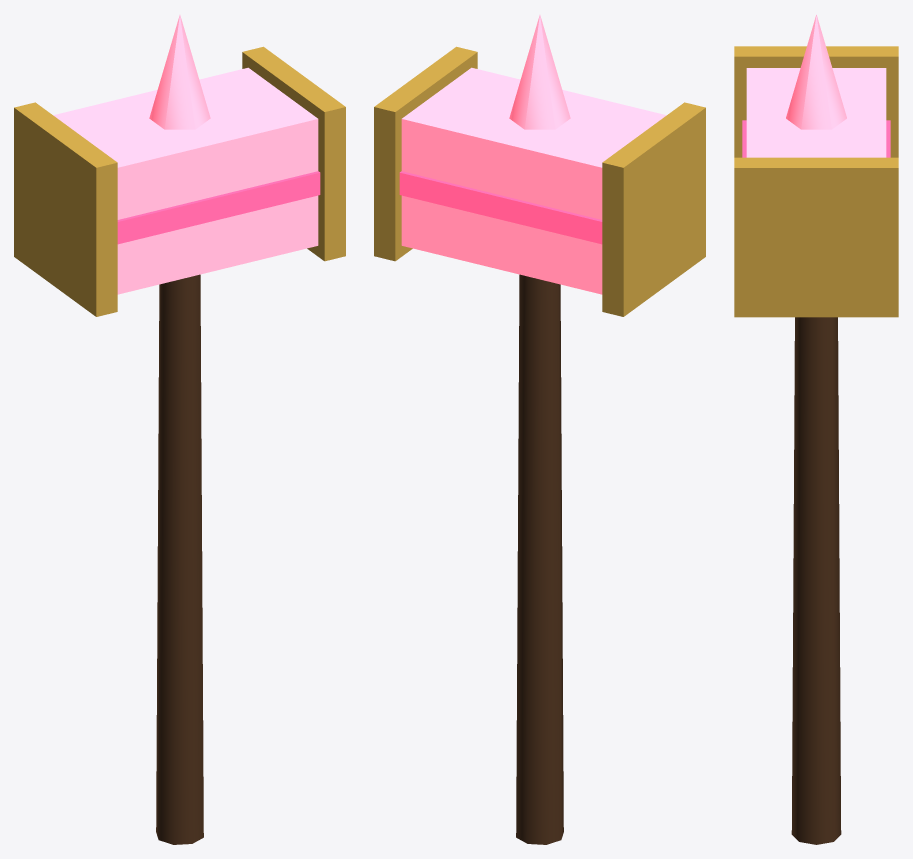
File: axe_f2_55db0ac4.glb
3 views of the same model, side by side, from view 1: azimuth 30°, elevation 25°; view 2: azimuth 150°, elevation 25°; view 3: azimuth 270°, elevation 25° (orthographic).
Parts seen in each view (by area): view 1: m2_ow80_, m0_ow80_, m3_ow80_, m1_gm120_; view 2: m2_ow80_, m0_ow80_, m3_ow80_, m1_gm120_; view 3: m3_ow80_, m0_ow80_, m2_ow80_, m1_gm120_.
Part boxes in pixels (x1=…): m2_ow80_: x1=53, y1=15, x2=318, y2=294; m0_ow80_: x1=156, y1=274, x2=203, y2=844; m3_ow80_: x1=14, y1=46, x2=345, y2=316; m1_gm120_: x1=117, y1=171, x2=320, y2=244; m2_ow80_: x1=401, y1=15, x2=666, y2=294; m0_ow80_: x1=516, y1=274, x2=563, y2=844; m3_ow80_: x1=374, y1=46, x2=705, y2=316; m1_gm120_: x1=399, y1=171, x2=602, y2=244; m3_ow80_: x1=734, y1=46, x2=898, y2=317; m0_ow80_: x1=791, y1=317, x2=841, y2=844; m2_ow80_: x1=746, y1=14, x2=886, y2=157; m1_gm120_: x1=742, y1=120, x2=890, y2=157.
Bounding box in the file's own units: 0.7 × 2.2 × 0.4.
